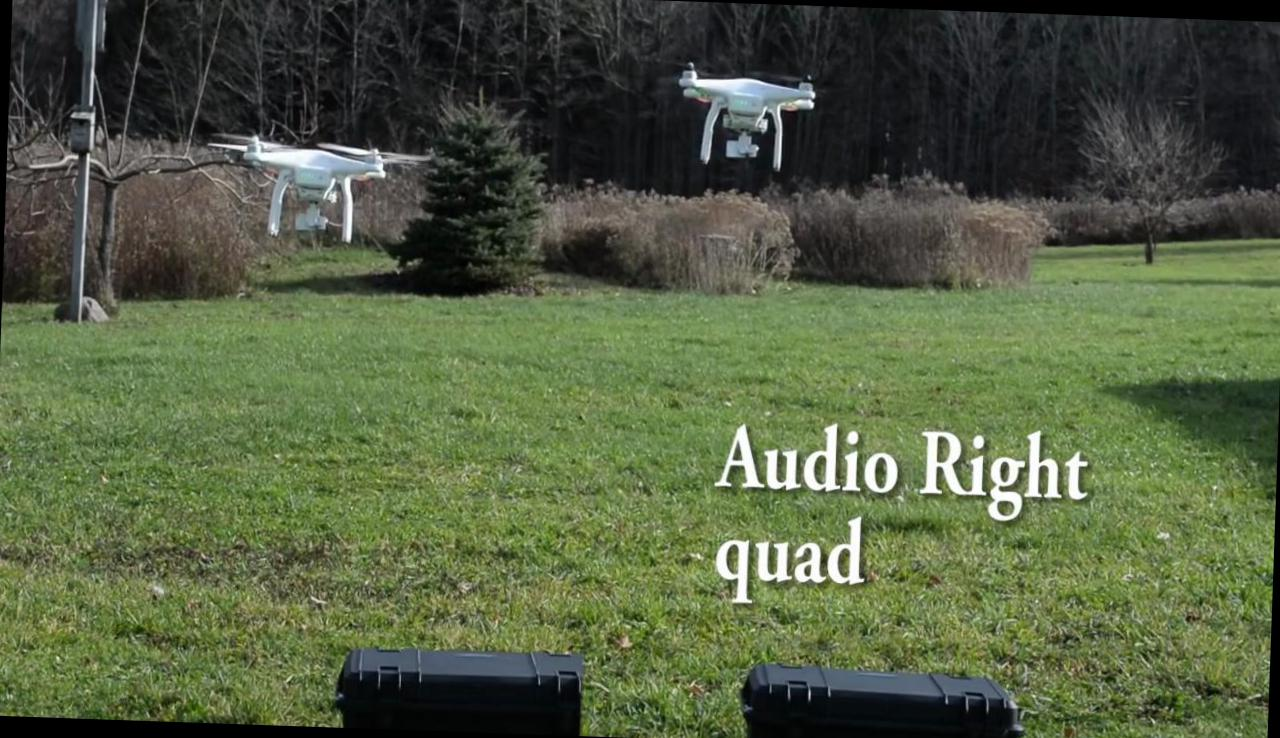drone: (199, 127, 442, 244), (670, 54, 821, 173)
